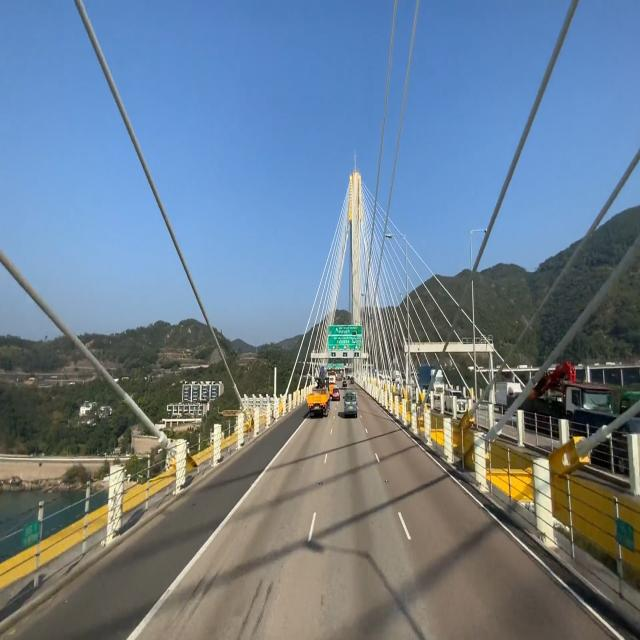Car: (307, 365, 332, 420), (342, 392, 360, 419)
